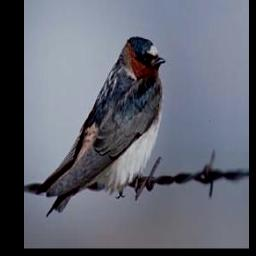Swallow: (35, 35, 164, 221)
